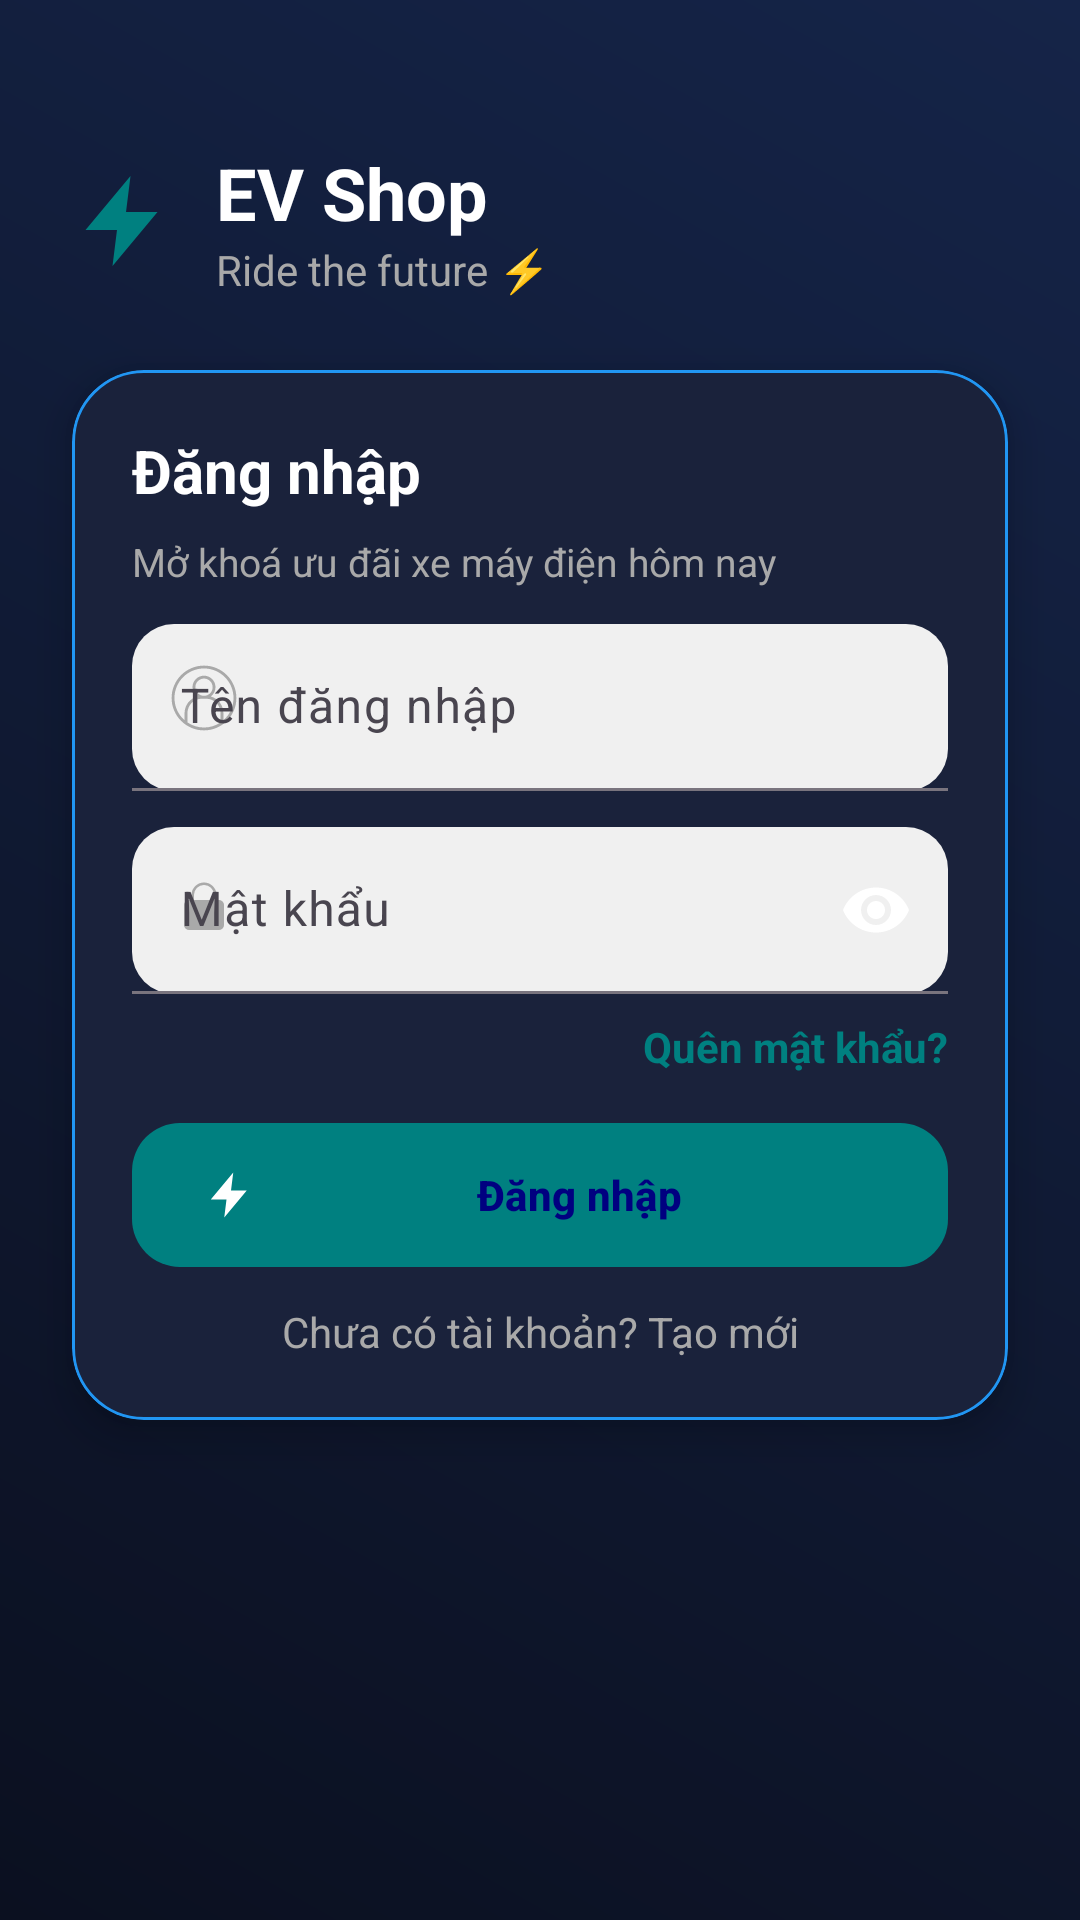

Where icons sit on this 1080px×1920px app screen, as [x1=x1, y1=y1, x2=x2, y2=y2]:
bolt: [x1=86, y1=176, x2=157, y2=266]
